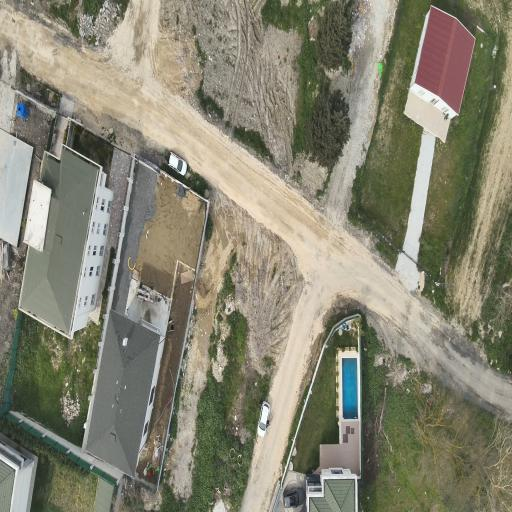car: (258, 402, 270, 437), (284, 488, 304, 508), (169, 153, 187, 175)
